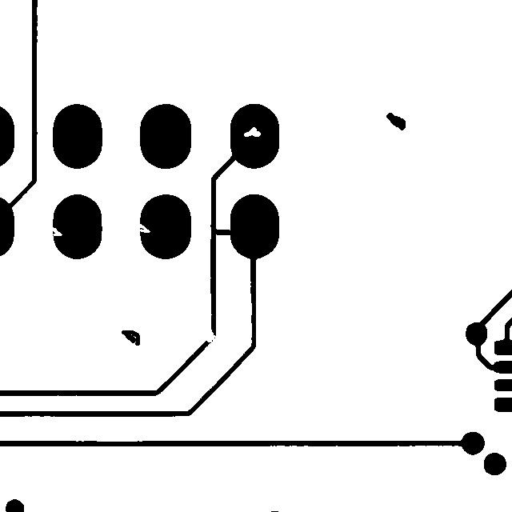copper: (378, 105, 413, 138), (114, 322, 147, 353)
mousebite: (130, 215, 158, 240), (43, 219, 70, 243)
open: (198, 324, 223, 350)
pin-hole: (236, 119, 268, 144)
short: (203, 221, 240, 242)
